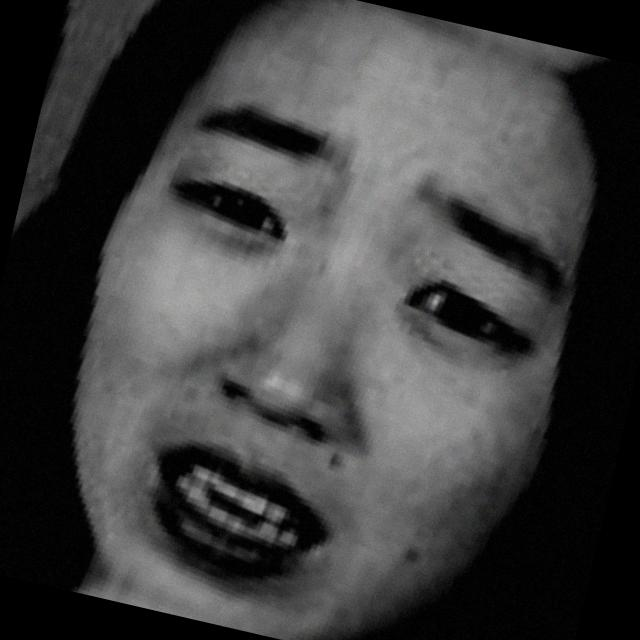fear: (32, 14, 609, 640)
